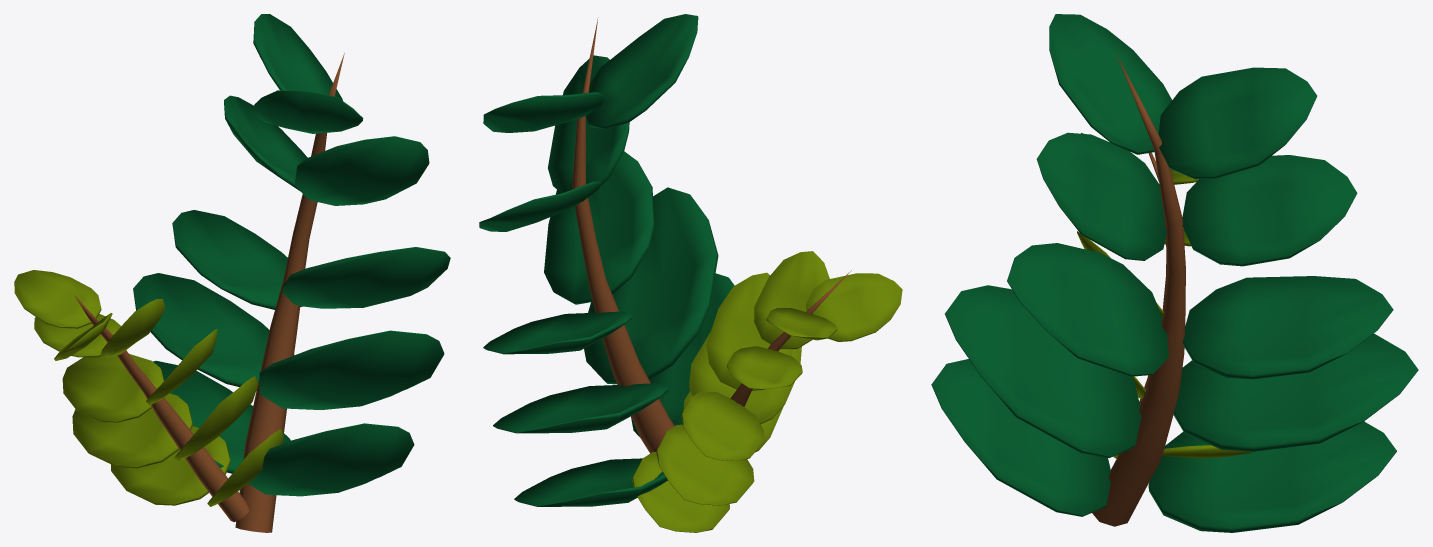
File: Grass_03.fbx
3 views of the same model, side by side, from view 1: azimuth 30°, elevation 25°; view 2: azimuth 150°, elevation 25°; view 3: azimuth 270°, elevation 25° (orthographic). The views are drawn at different scales.
Parts seen in each view (by area): view 1: grass_03; view 2: grass_03; view 3: grass_03.
Part boxes in pixels (x1=…): grass_03: x1=14, y1=14, x2=450, y2=532; grass_03: x1=479, y1=14, x2=902, y2=532; grass_03: x1=931, y1=14, x2=1418, y2=532.
Size of the model in its own units: 228 by 274 by 233.
1 material, 1 textured.
